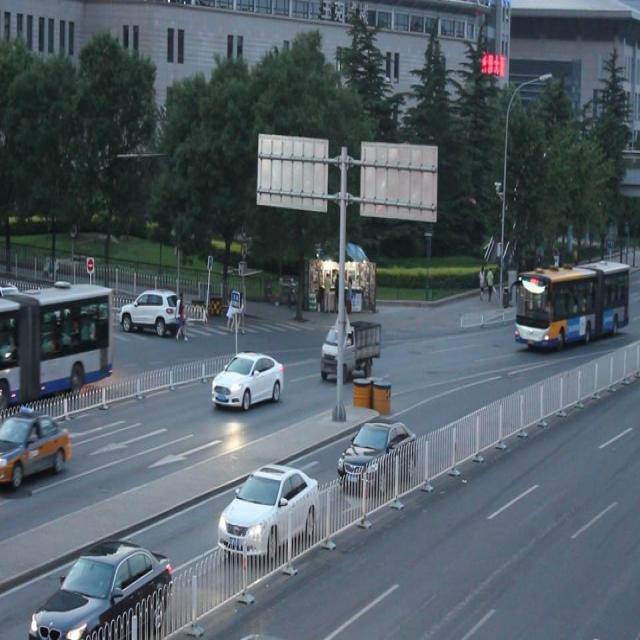bus: (320, 318, 380, 382)
car: (28, 537, 170, 640), (218, 460, 317, 557), (336, 414, 417, 490), (1, 408, 71, 488), (212, 349, 284, 410), (124, 288, 180, 334)
van: (1, 279, 115, 405), (514, 262, 626, 348)
